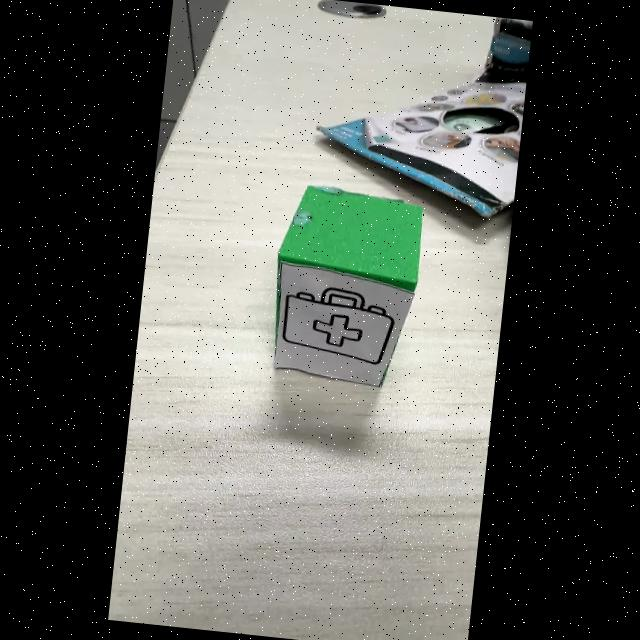Medkit: (282, 288, 394, 364)
